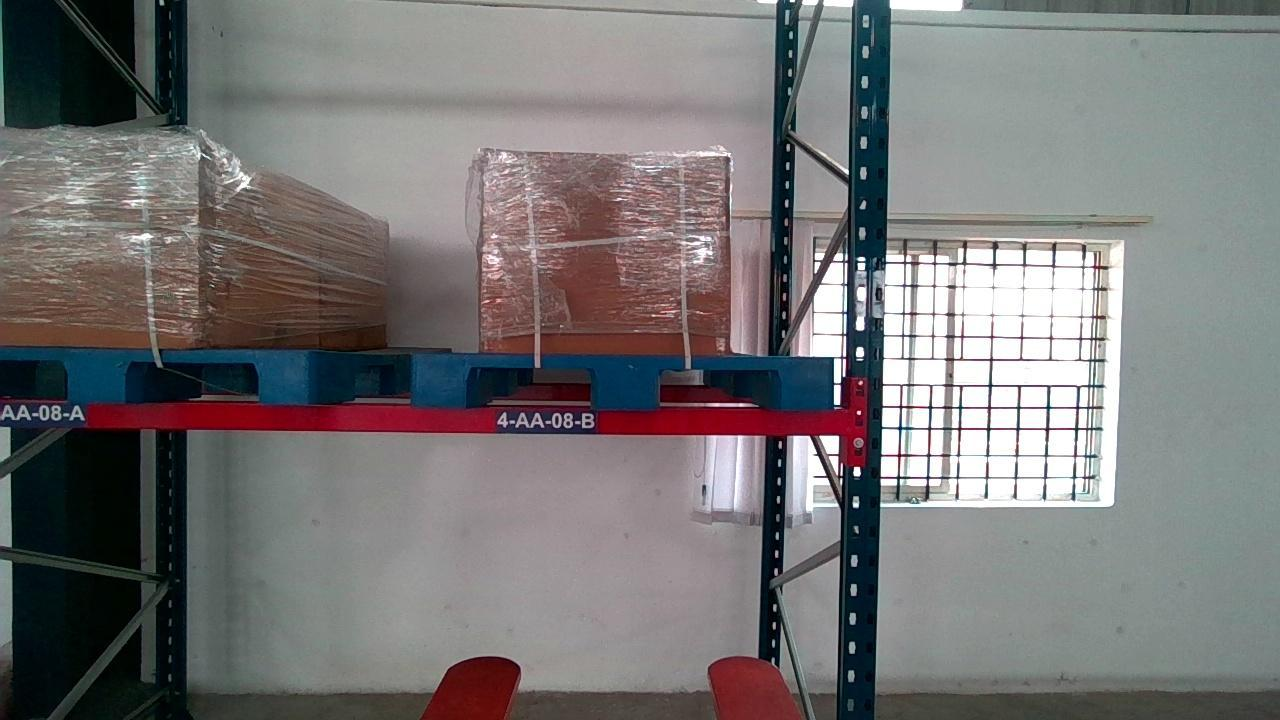small_pallet: (417, 355, 832, 410), (7, 345, 313, 399)
